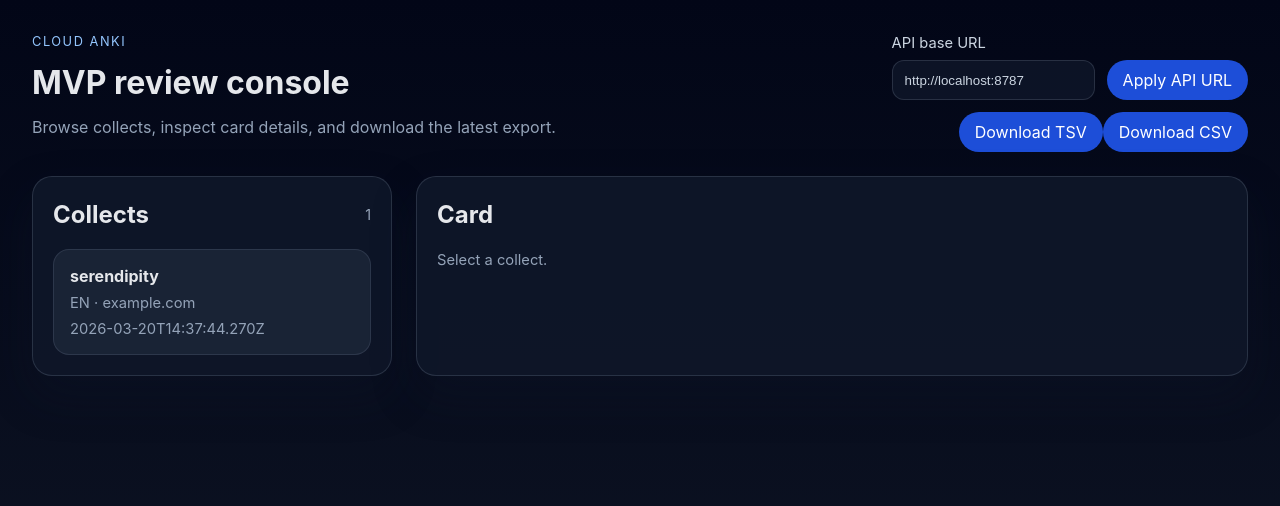
Test: loads collects and shows selected card details
Click the button "serendipity EN · example.com 2026-03-20T14:37:44.270Z". click: coordinates (114, 276)
box: [53, 249, 371, 355]
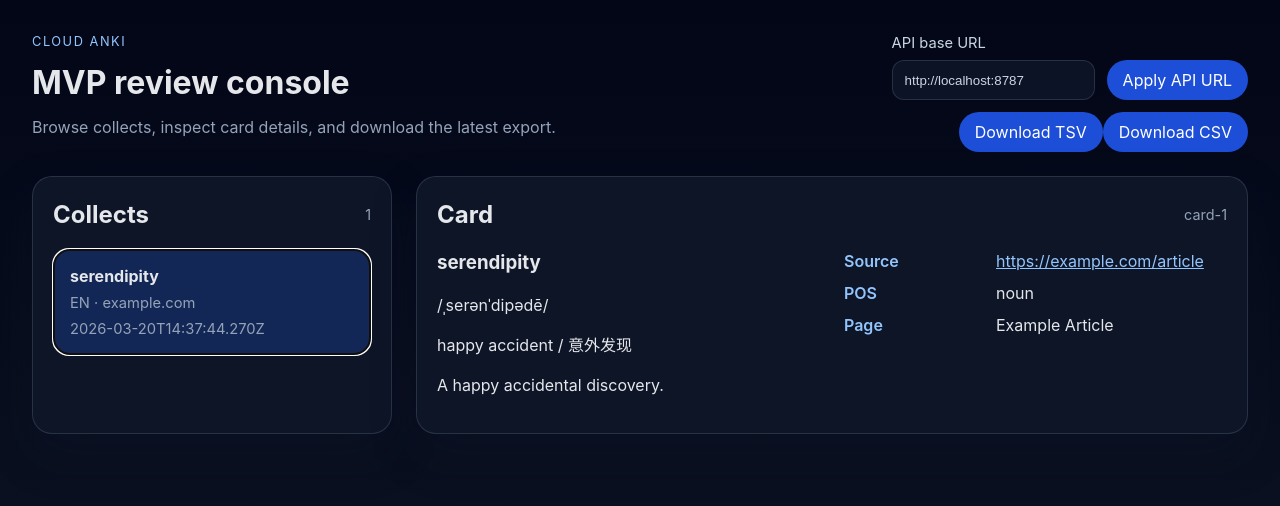
Result: the text "happy accident / 意外发现" is shown at [437, 335, 632, 355]
Result: the text "/ˌserənˈdipədē/" is shown at [437, 295, 548, 315]
Result: the text "A happy accidental discovery." is shown at [437, 375, 664, 395]
